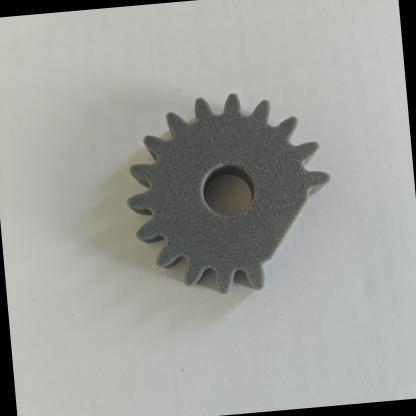defect: (231, 162, 358, 302)
gear: (104, 82, 366, 337)
